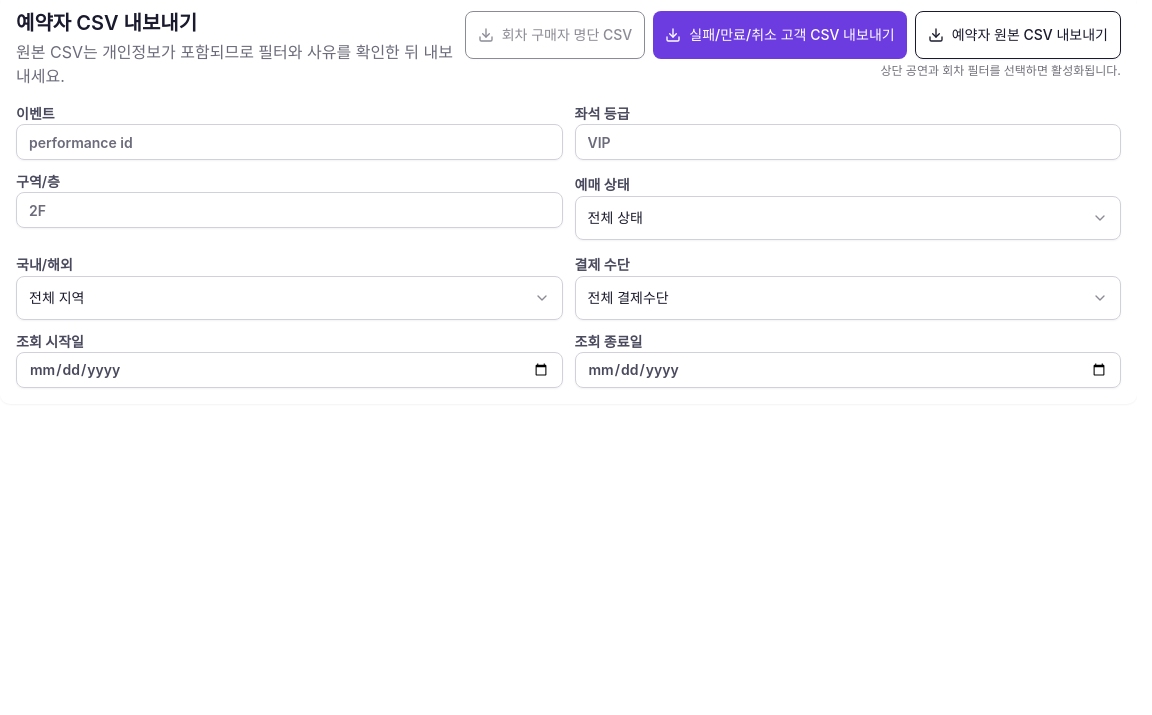
Test: ReservationExportPanel › closes the dialog and confirms the download once the CSV arrives
Click the button "예약자 원본 CSV 내보내기".
click(1018, 35)  # box [915,11,1121,59]
(page scrolled)
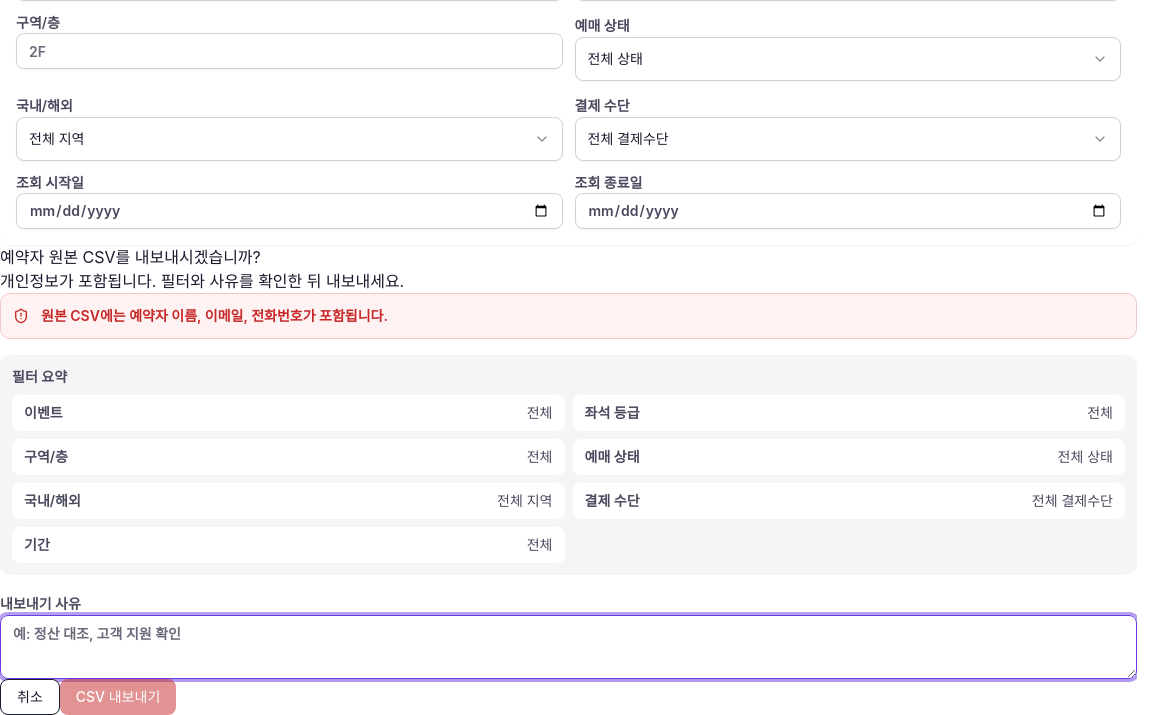
Type "정산 대조" into the text box labelled "내보내기 사유".
click(568, 647); type("정산 대조")  # box [0,615,1137,679]
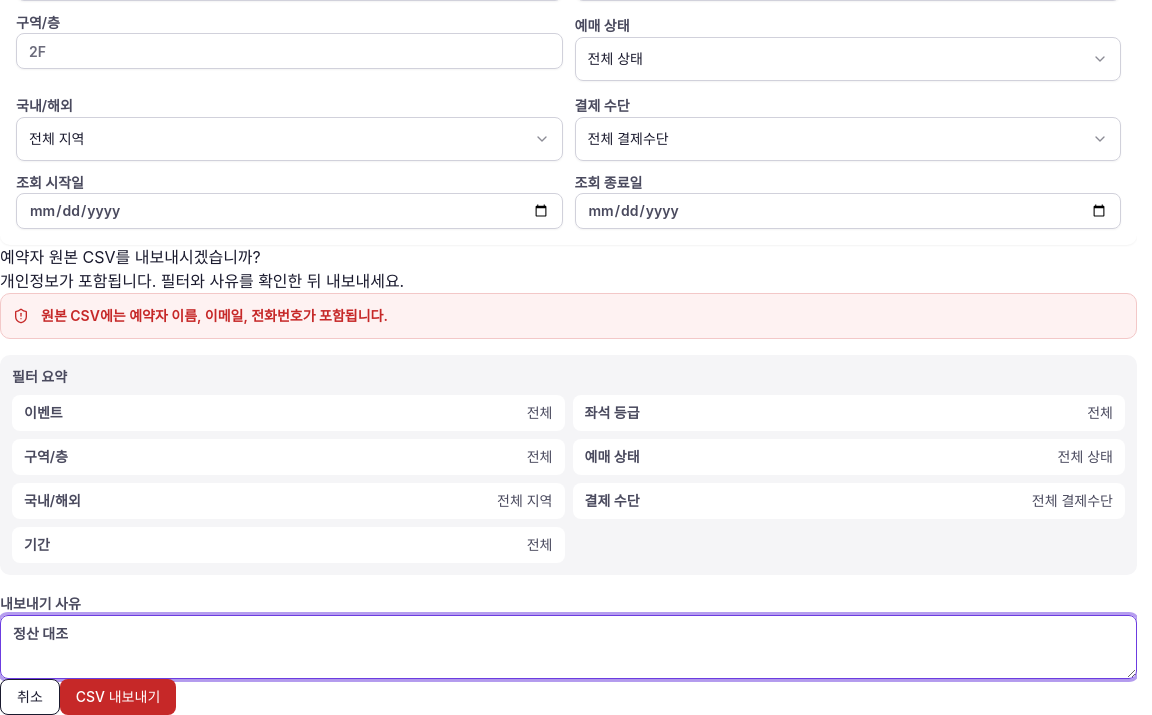
Click the button "CSV 내보내기".
click(118, 697)  # box [60,679,176,714]
(page scrolled)
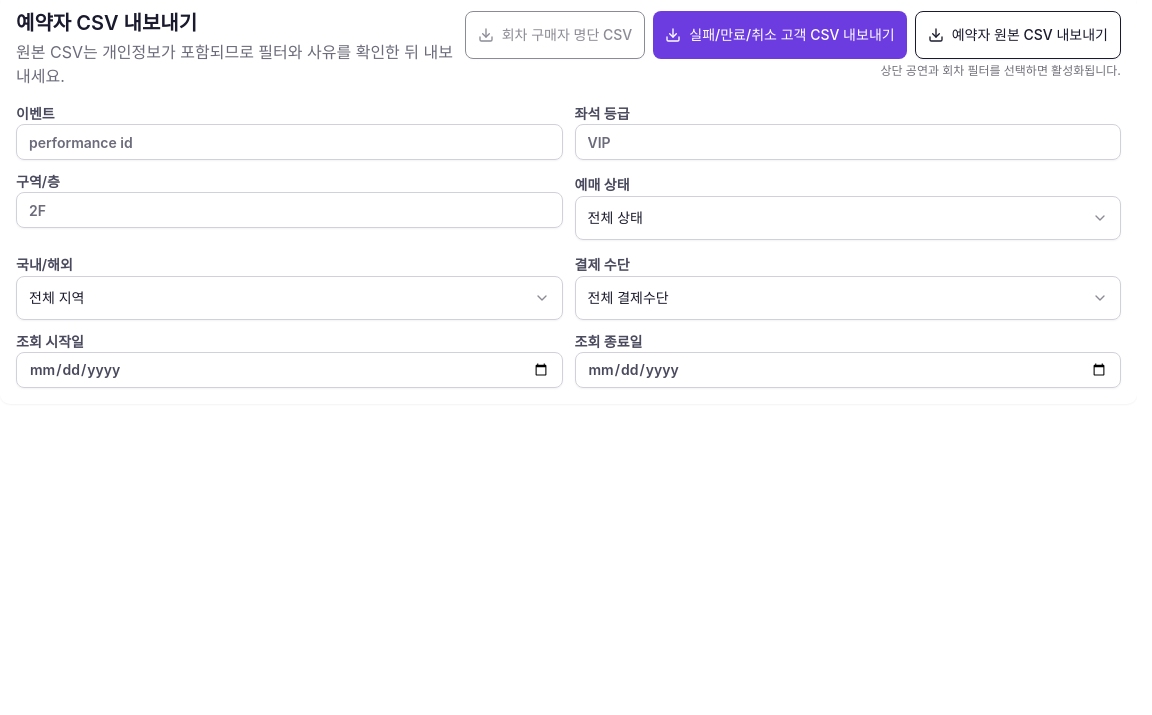
Expected: the dialog is gone
